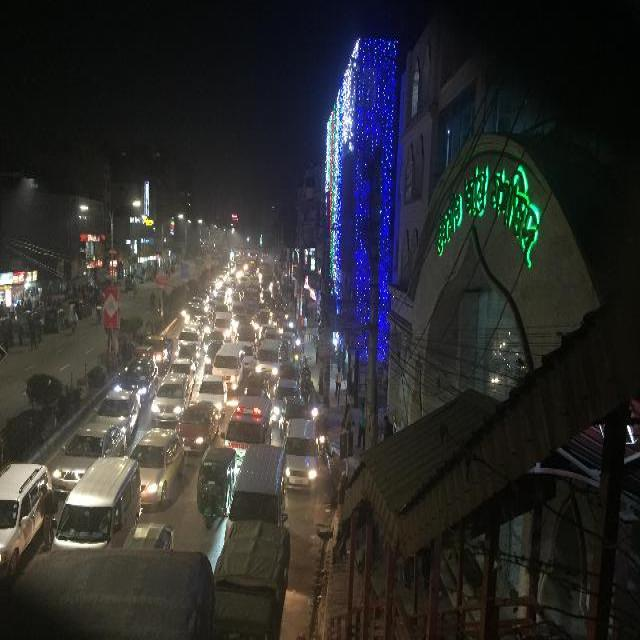ambulance: (224, 395, 272, 464)
bus: (0, 547, 211, 637), (242, 279, 260, 308), (247, 252, 257, 273), (262, 267, 272, 282)
car: (0, 461, 52, 576), (52, 421, 126, 491), (128, 428, 184, 504), (281, 418, 319, 490), (174, 399, 220, 449), (150, 372, 190, 420), (94, 390, 140, 430), (197, 374, 227, 414), (271, 378, 299, 419), (167, 358, 195, 378), (203, 332, 225, 352), (205, 339, 218, 370), (71, 299, 91, 317), (242, 341, 254, 368), (236, 326, 256, 342), (258, 323, 274, 336), (187, 319, 203, 332), (254, 313, 270, 324), (232, 318, 248, 326), (125, 279, 136, 289), (216, 294, 224, 301), (259, 308, 271, 312), (217, 290, 226, 294)
minivan: (230, 301, 246, 318), (212, 302, 226, 317)
pickup: (144, 333, 172, 363)
policecar: (210, 524, 290, 640)
suv: (114, 357, 156, 392), (176, 329, 200, 351)
three wheelers -CNG-: (197, 445, 236, 528), (123, 523, 173, 546), (278, 396, 306, 433), (44, 307, 64, 333), (18, 309, 34, 336), (248, 369, 268, 388), (178, 340, 196, 360), (279, 361, 297, 378), (131, 346, 153, 358), (63, 304, 75, 324), (282, 337, 290, 359), (264, 329, 278, 338), (282, 331, 294, 341), (116, 279, 125, 292)
van: (51, 457, 141, 548), (224, 443, 286, 528), (210, 342, 243, 389), (254, 338, 282, 374), (212, 312, 232, 339)
